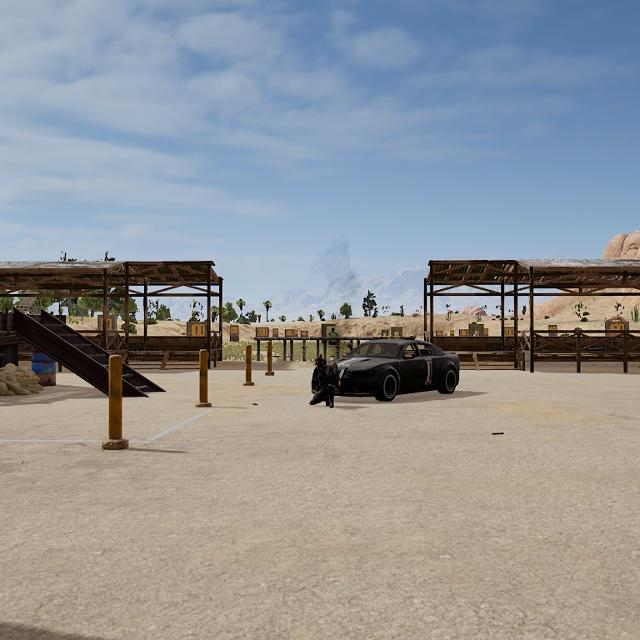head: (314, 354, 326, 370)
people: (304, 349, 343, 411)
